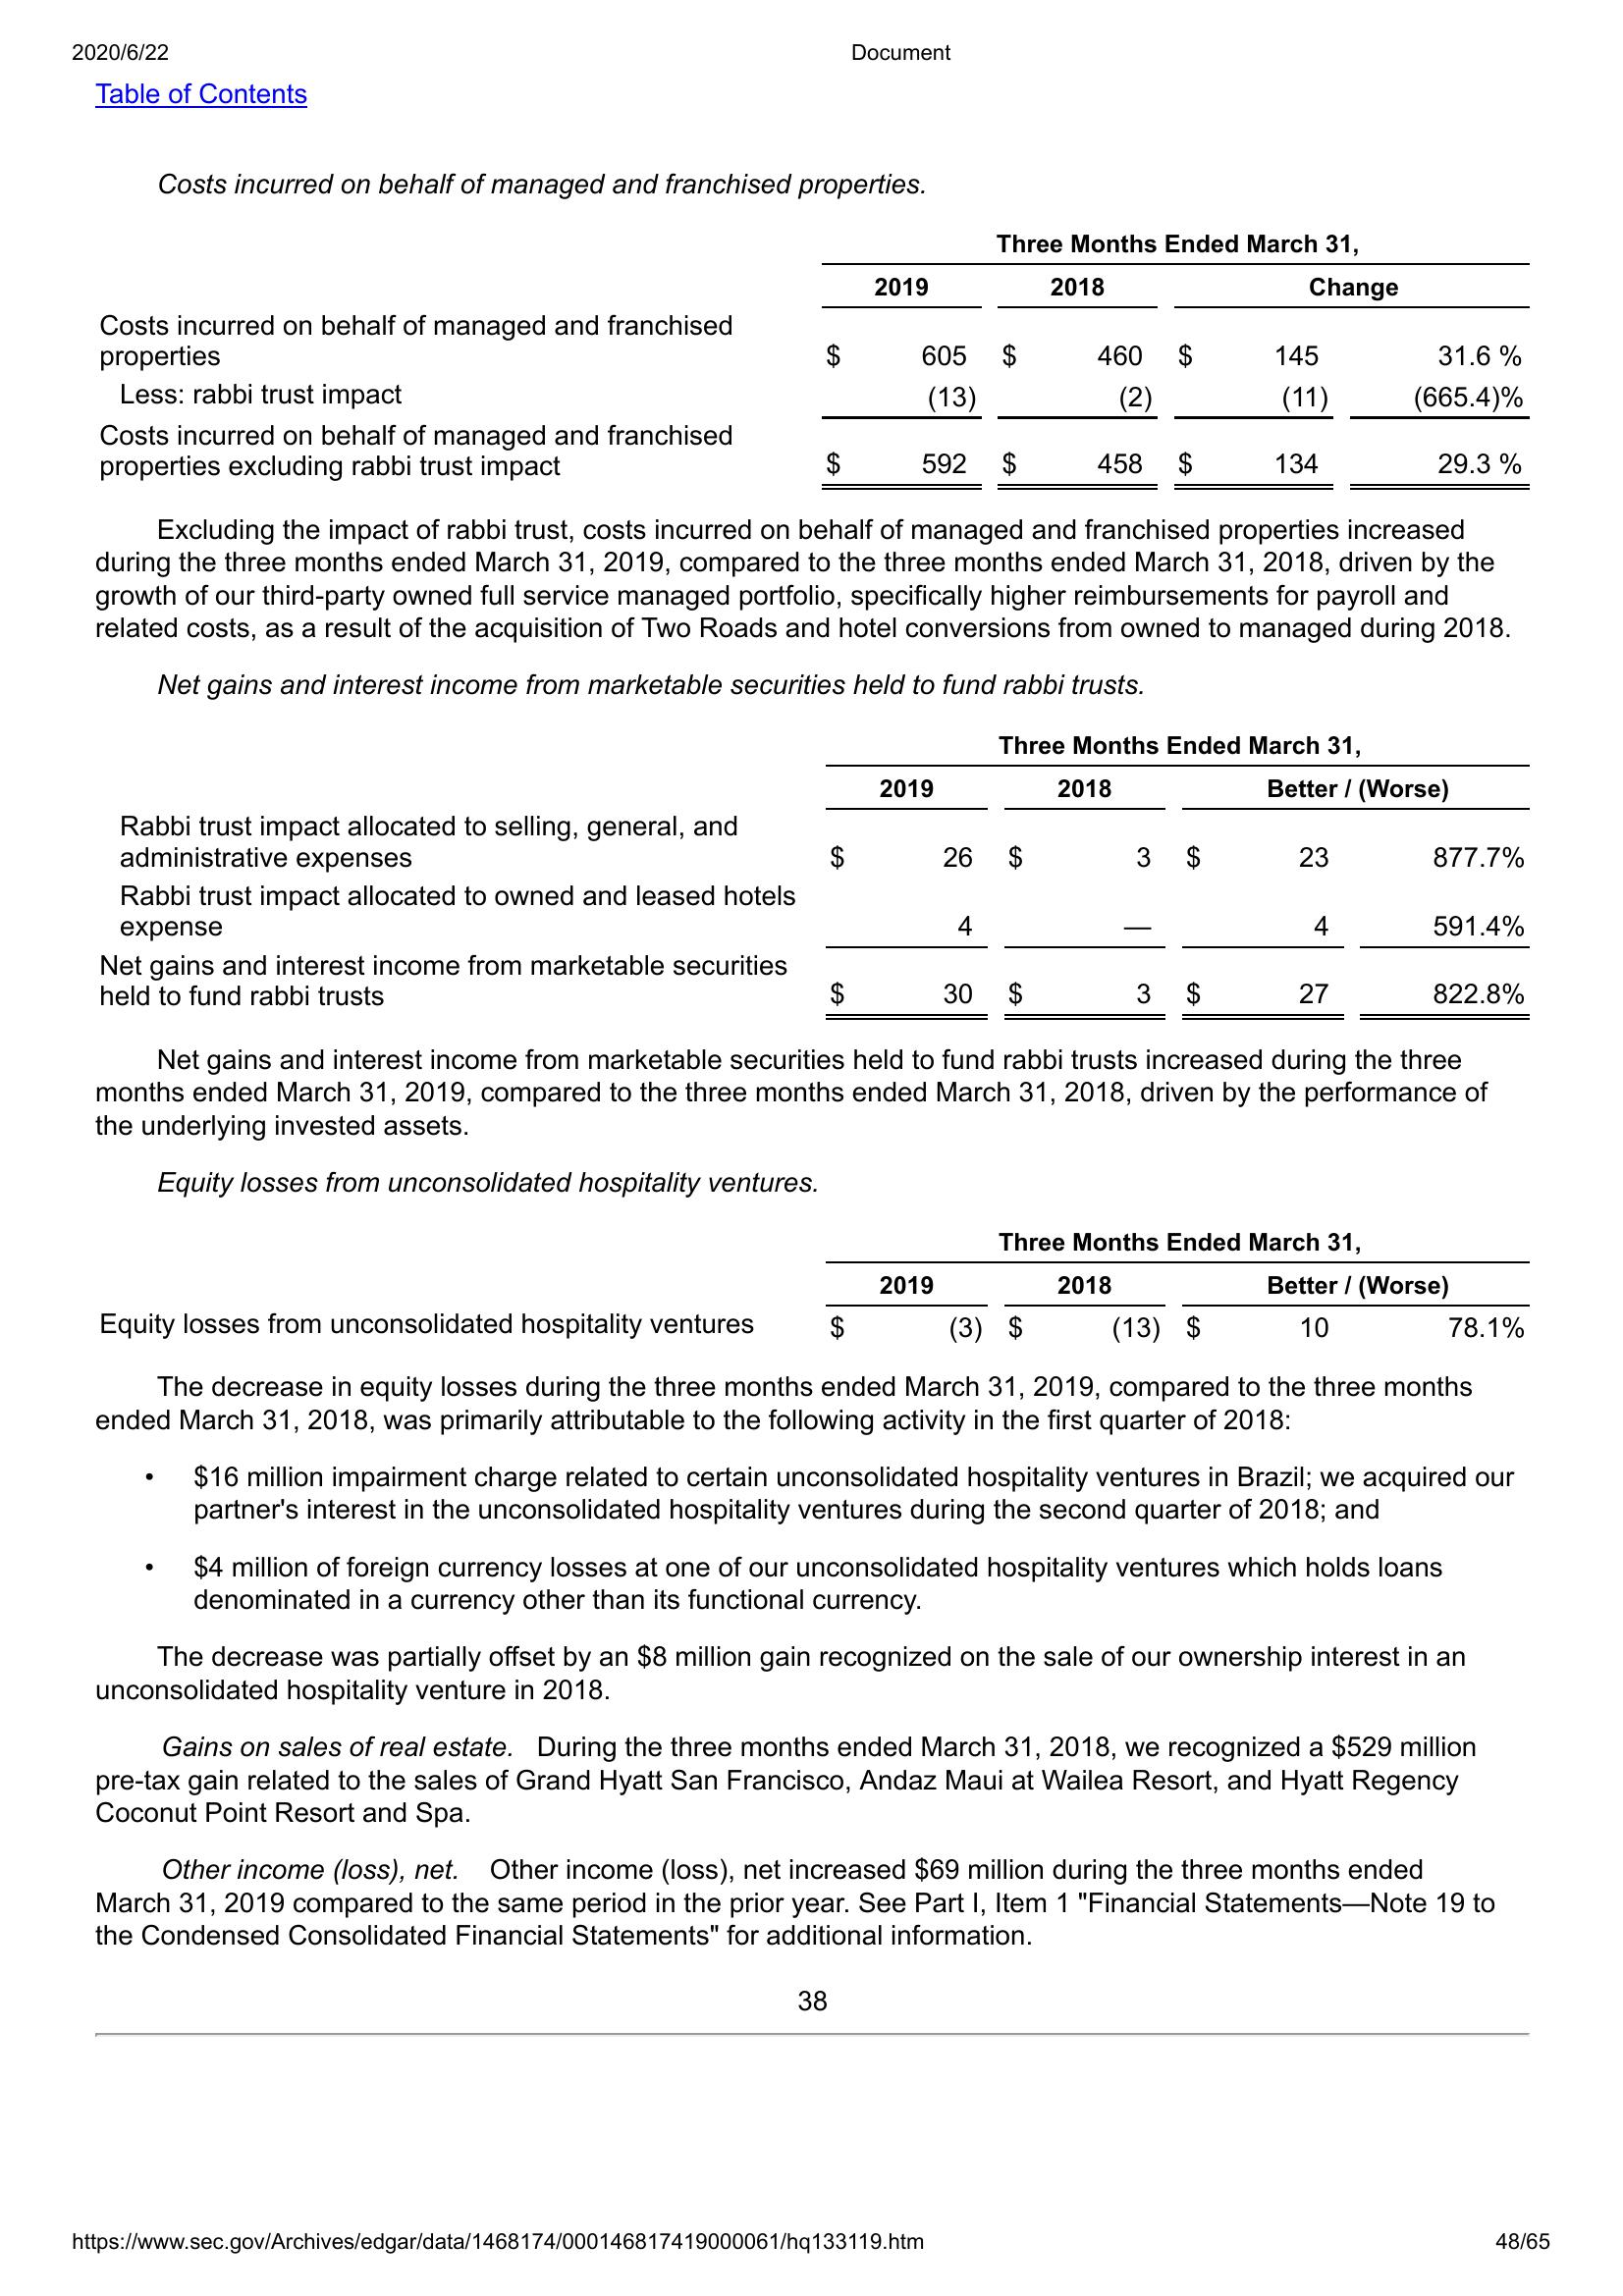table: (91, 723, 1535, 1025), (91, 219, 1539, 499), (91, 1223, 1540, 1350)
